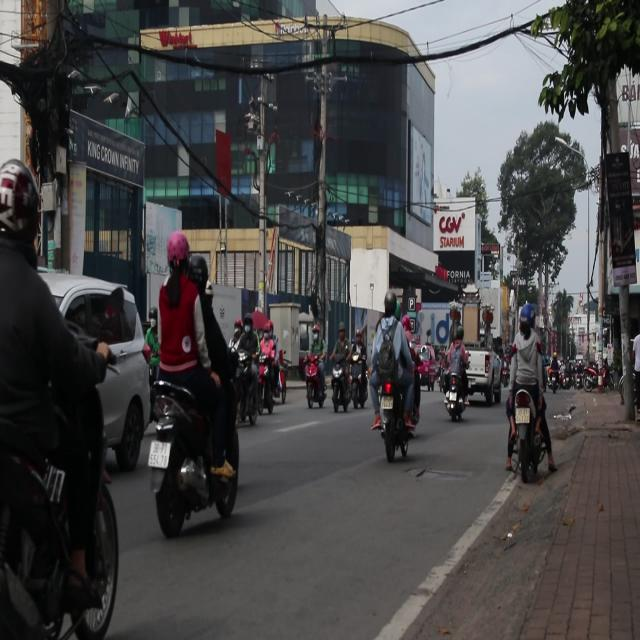car: (59, 284, 155, 472), (465, 347, 504, 405)
motorbike: (0, 383, 116, 640), (147, 380, 238, 537), (508, 386, 547, 484), (380, 376, 406, 465), (442, 364, 472, 425), (304, 349, 324, 415), (330, 363, 353, 413), (348, 366, 368, 410), (577, 366, 598, 392), (562, 367, 583, 390)
